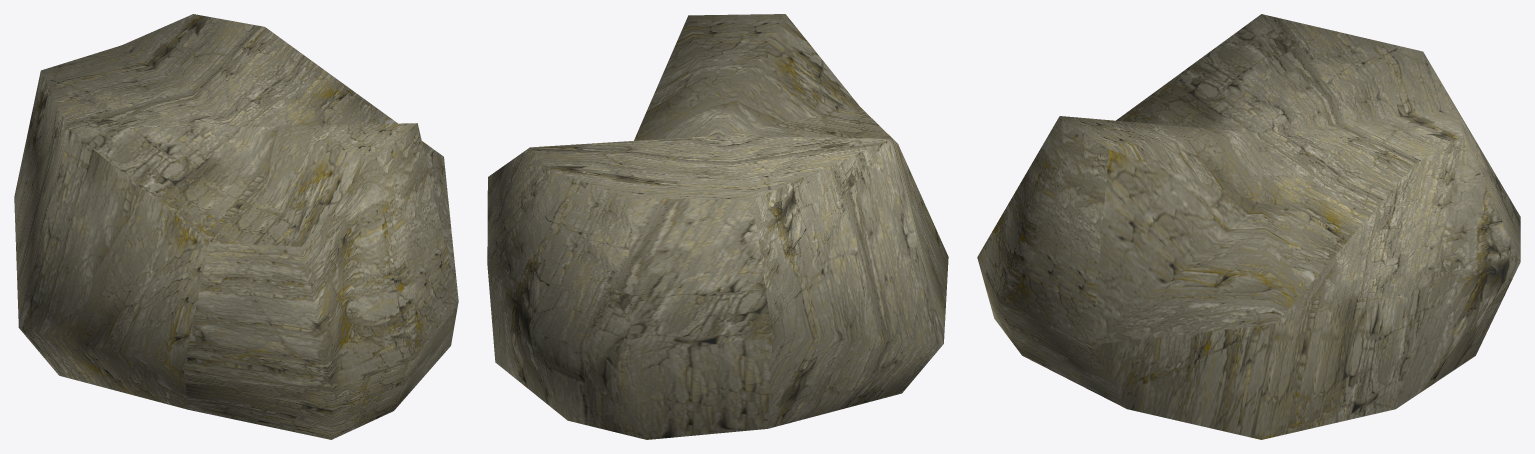
Rendered from stone_granite_boulder_1.glb.
The picture shows the model from 3 angles, left to right: view 1: azimuth 30°, elevation 25°; view 2: azimuth 150°, elevation 25°; view 3: azimuth 270°, elevation 25°; orthographic projection. The views are drawn at different scales.
Parts seen in each view (by area): view 1: stone_granite_boulder_1; view 2: stone_granite_boulder_1; view 3: stone_granite_boulder_1.
Boxes of the visible parts, x1,y1,x2,y2 form: stone_granite_boulder_1: (14,14,458,439); stone_granite_boulder_1: (487,14,948,439); stone_granite_boulder_1: (977,14,1520,439).
Size of the model in its own units: 3.49 by 1.87 by 3.81.
1 material, 1 textured.
